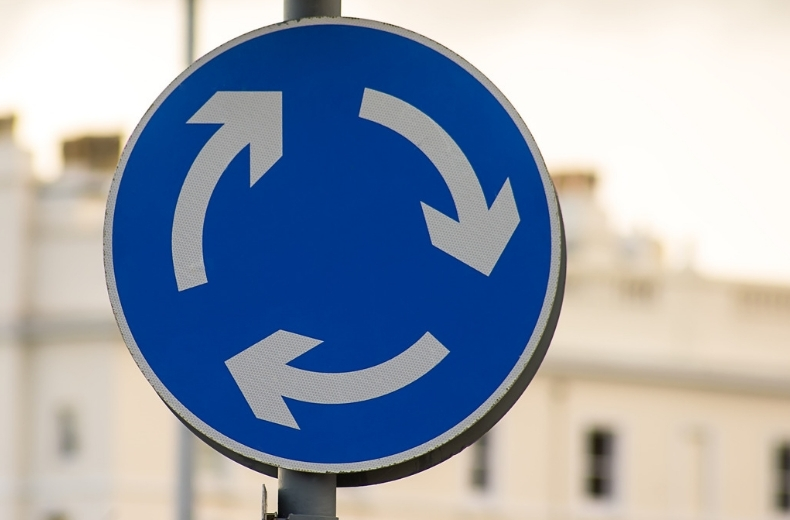roundabout: (105, 12, 588, 499)
